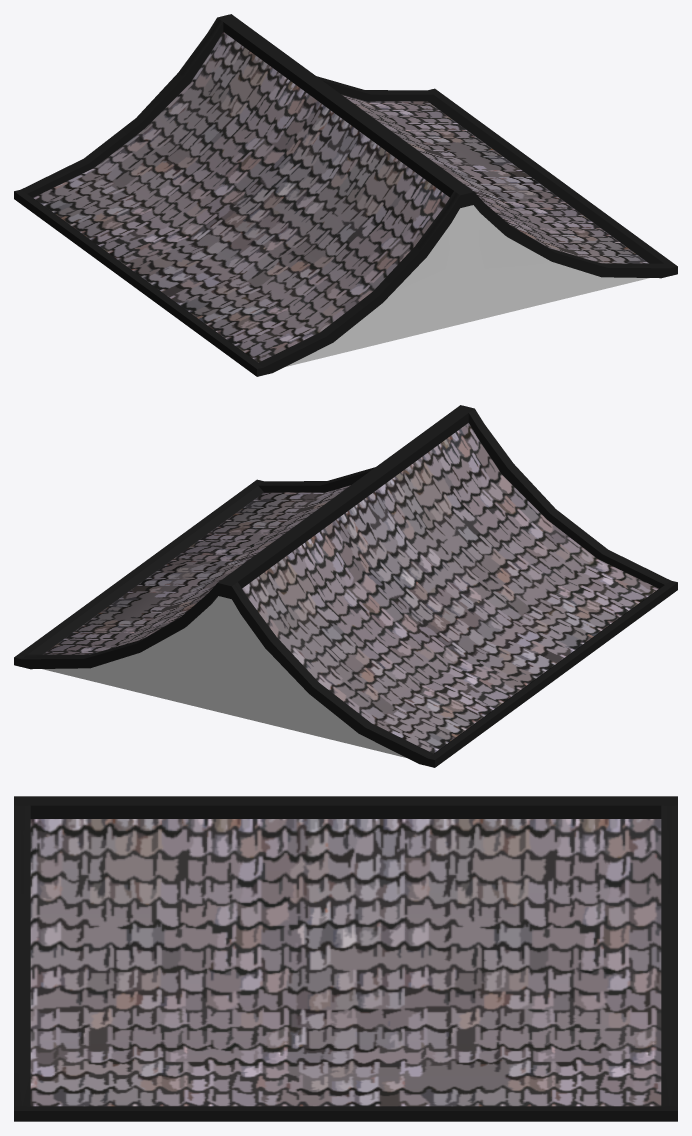
The model's file is buildingRoof 1.fbx.
3 renders of one model, top to bottom at view 1: azimuth 30°, elevation 25°; view 2: azimuth 150°, elevation 25°; view 3: azimuth 270°, elevation 25°, orthographic. The views are drawn at different scales.
Visible parts, largest first — view 1: buildingRoof; view 2: buildingRoof; view 3: buildingRoof.
Boxes of the visible parts, bbox=[...] form: buildingRoof: bbox=[14, 14, 677, 376]; buildingRoof: bbox=[14, 405, 677, 767]; buildingRoof: bbox=[14, 796, 677, 1121].
Size of the model in its own units: 600 by 180 by 600.
